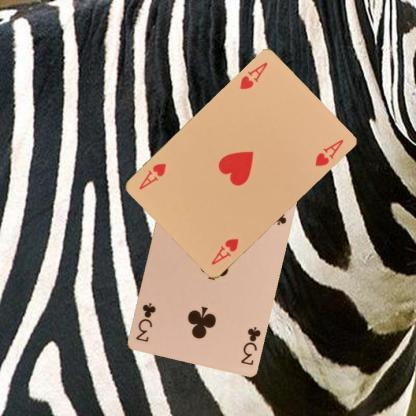3c: (238, 324, 262, 366)
Ah: (236, 60, 270, 92), (209, 236, 240, 267)
